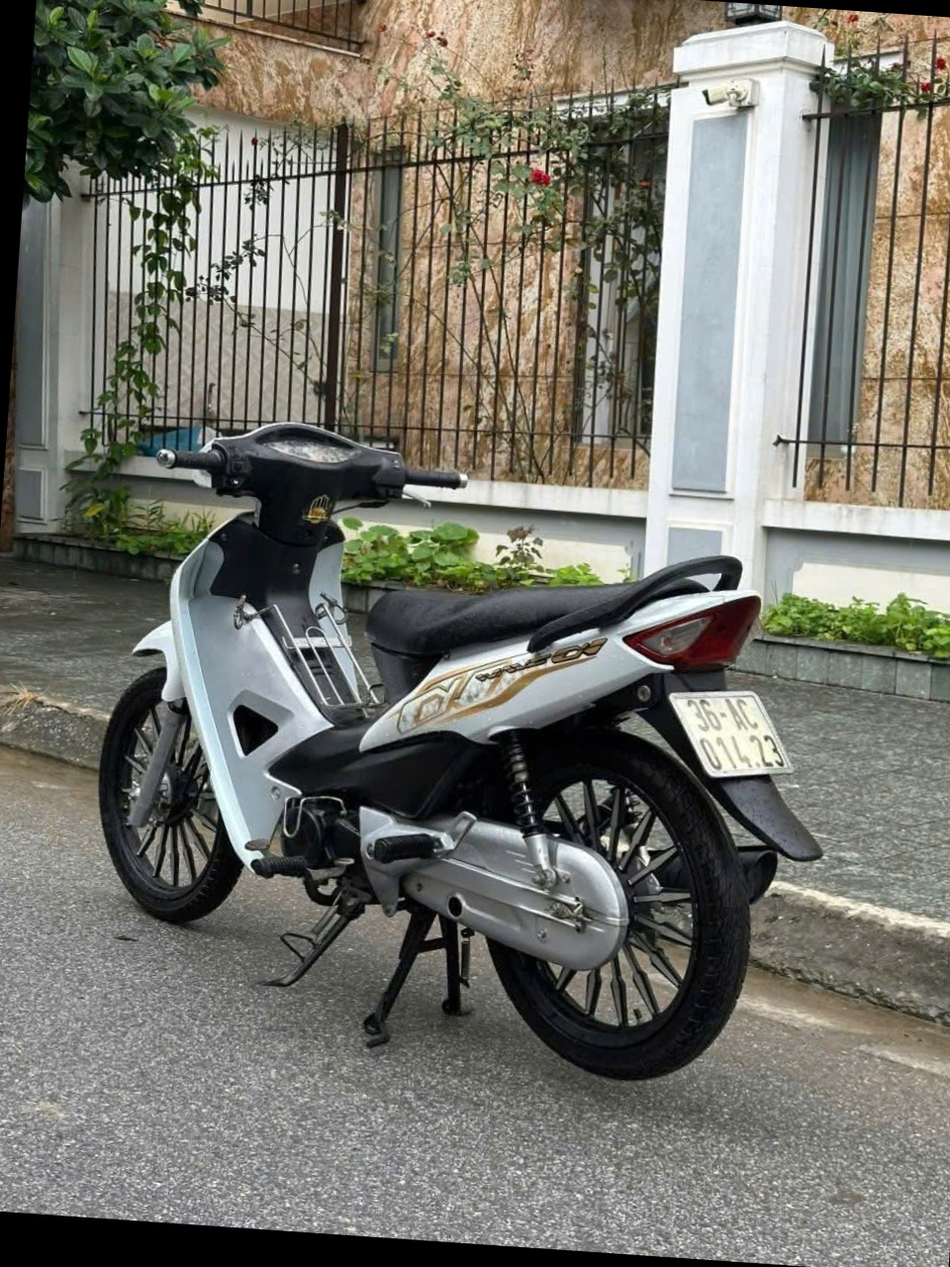Bien-so: (668, 675, 805, 778)
